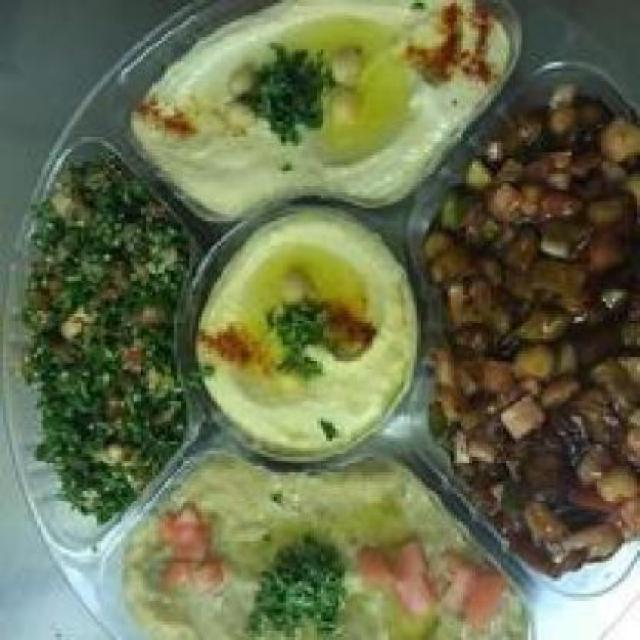eggplant: (432, 74, 638, 568)
